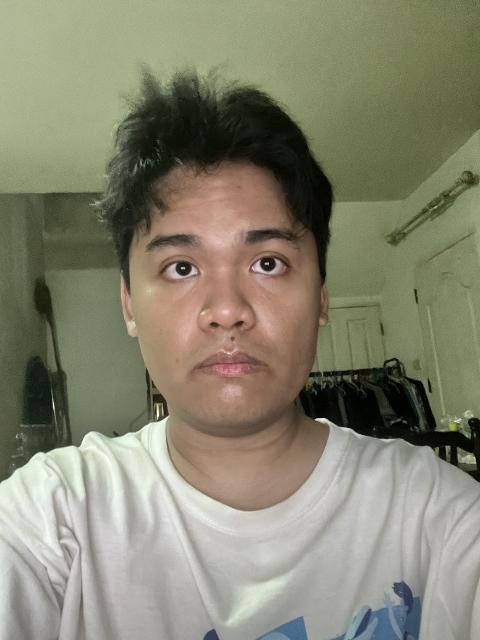fokus: (120, 110, 332, 434)
